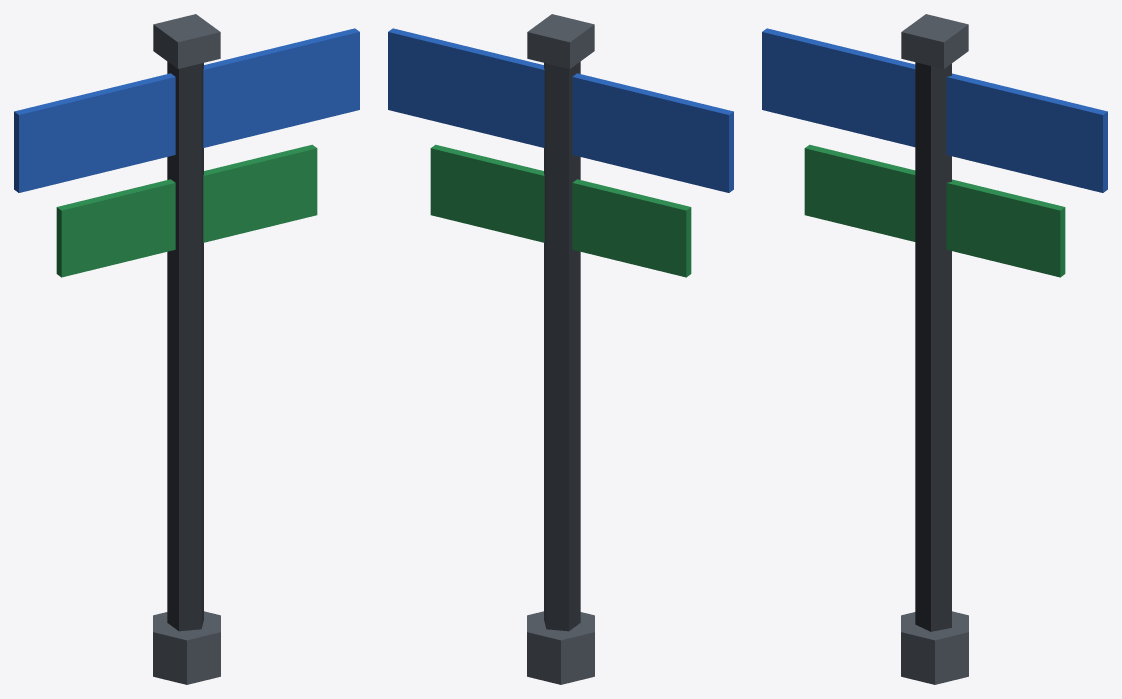
The model's file is street_sign.glb.
The picture shows the model from 3 angles, left to right: view 1: azimuth 30°, elevation 25°; view 2: azimuth 150°, elevation 25°; view 3: azimuth 330°, elevation 25°; orthographic projection.
Parts seen in each view (by area): view 1: street_sign; view 2: street_sign; view 3: street_sign.
Boxes of the visible parts, box(x1,y1,x2,y2) form: street_sign: box(14, 14, 359, 684); street_sign: box(388, 14, 733, 684); street_sign: box(762, 14, 1107, 684).
Bounding box in the file's own units: 0.16 × 0.287 × 0.0277.
